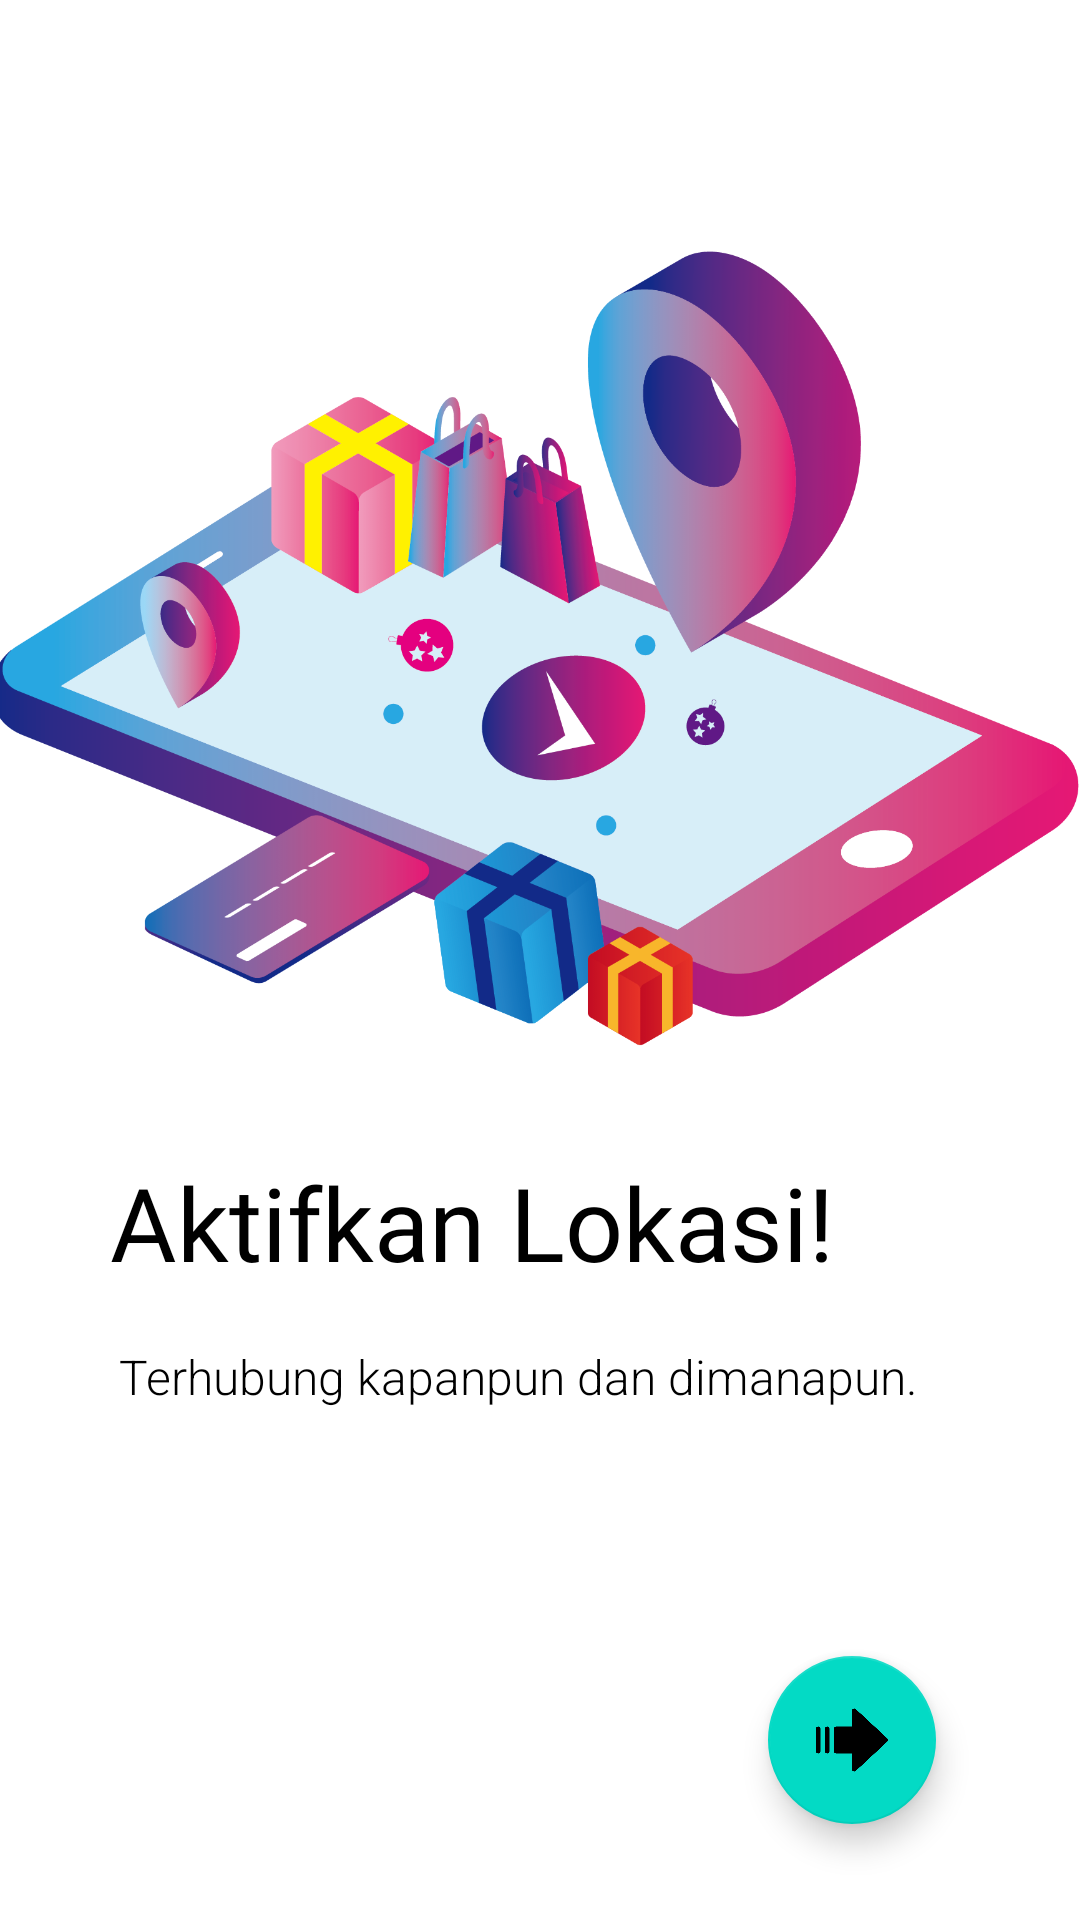

Icon click points for this 1080*1920 phone screenshot, format (x=x, y=y):
next: (x=852, y=1740)
